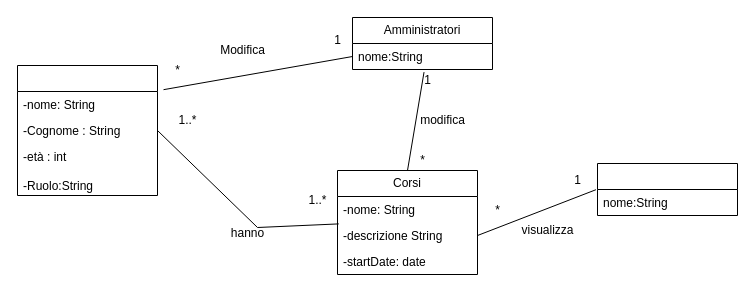
This 755x295 diagram has some shape labels left out. Each missing label, with the box of its shape:
Personale: (16, 64, 158, 196)
Utente: (596, 162, 738, 216)
